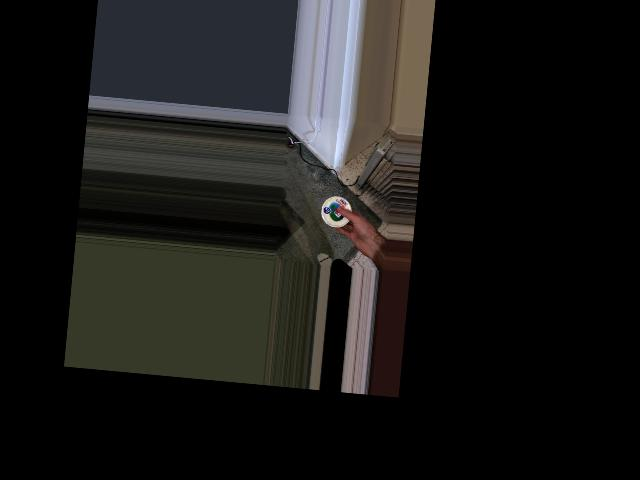cotage: (321, 196, 353, 228)
